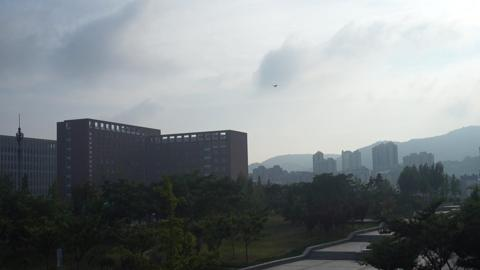UAV: (273, 85, 278, 88)
